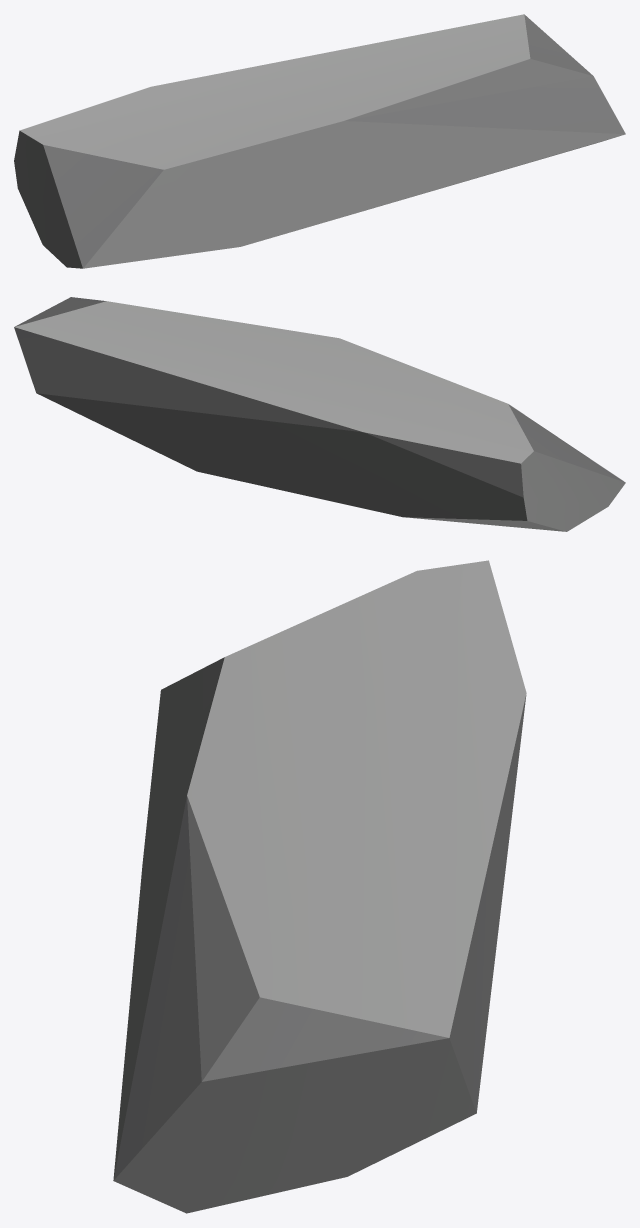
File: stones1.fbx
3 views of the same model, one above another, from view 1: azimuth 30°, elevation 25°; view 2: azimuth 150°, elevation 25°; view 3: azimuth 270°, elevation 25° (orthographic). The views are drawn at different scales.
Visible parts, largest first — view 1: stones1; view 2: stones1; view 3: stones1.
Part boxes in pixels (x1,y1,x2,y2): stones1: (14, 14, 625, 268); stones1: (14, 297, 625, 531); stones1: (113, 560, 526, 1213).
Size of the model in its own units: 24.81 by 4.08 by 8.36.
